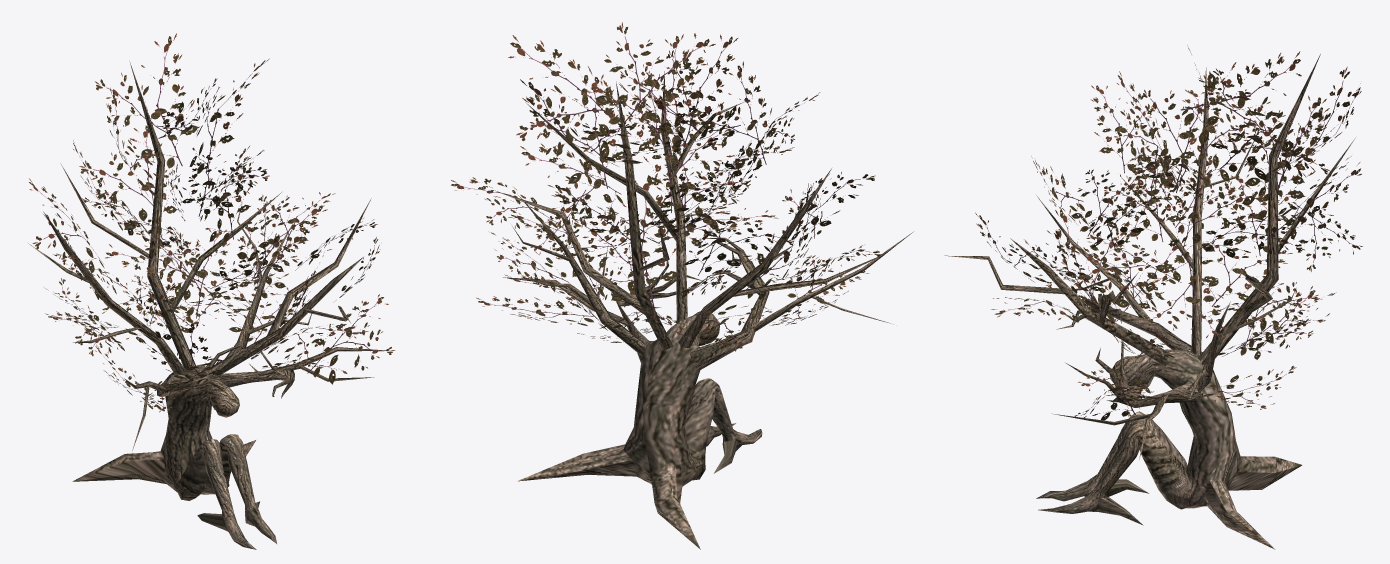
Rendered from tree_hitogata3_3.fbx.
3 renders of one model, left to right at view 1: azimuth 30°, elevation 25°; view 2: azimuth 150°, elevation 25°; view 3: azimuth 270°, elevation 25°, orthographic. The views are drawn at different scales.
Parts seen in each view (by area): view 1: tree_hitogata3_3; view 2: tree_hitogata3_3; view 3: tree_hitogata3_3.
Boxes of the visible parts, x1,y1,x2,y2 form: tree_hitogata3_3: [28, 33, 395, 549]; tree_hitogata3_3: [451, 22, 912, 549]; tree_hitogata3_3: [944, 45, 1362, 549].
Size of the model in its own units: 13.29 by 14.86 by 12.45.
1 material, 1 textured.
